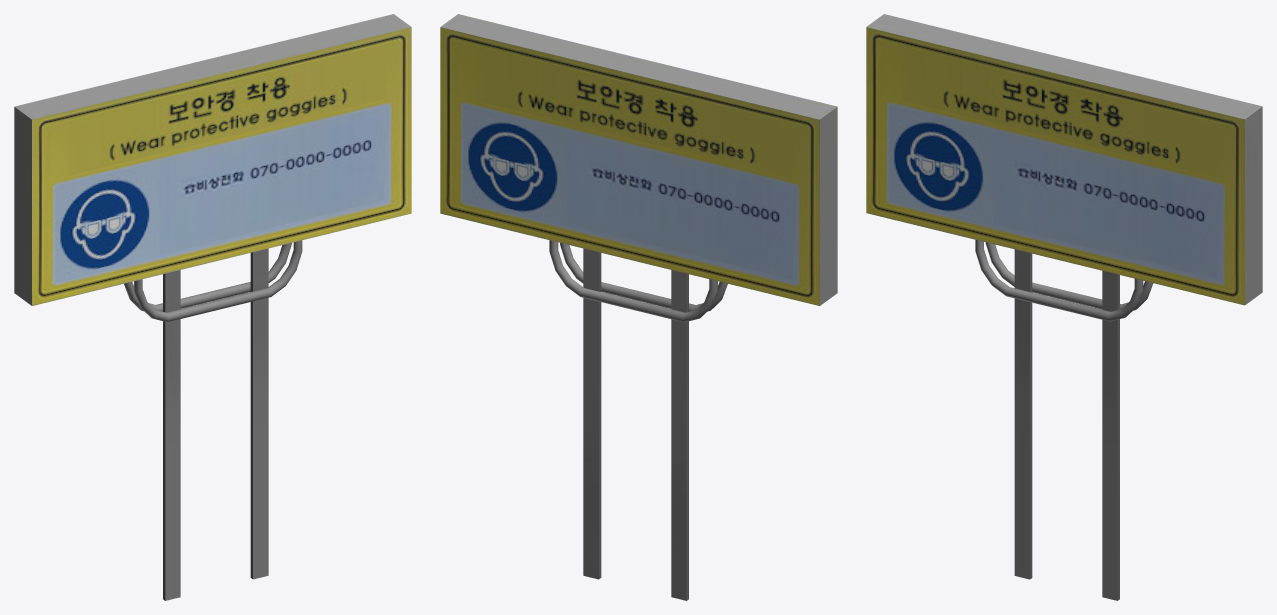
Rendered from cautionGogles.gltf.
3 views of the same model, side by side, from view 1: azimuth 30°, elevation 25°; view 2: azimuth 150°, elevation 25°; view 3: azimuth 330°, elevation 25° (orthographic).
Parts seen in each view (by area): view 1: gogles; view 2: gogles; view 3: gogles.
Part boxes in pixels (x1,y1,x2,y2): gogles: (14,14,411,600); gogles: (440,14,837,600); gogles: (866,14,1262,600).
Bounding box in the file's own units: 21.53 × 28.25 × 1.76.
Materials: 1 (1 with a texture image).
